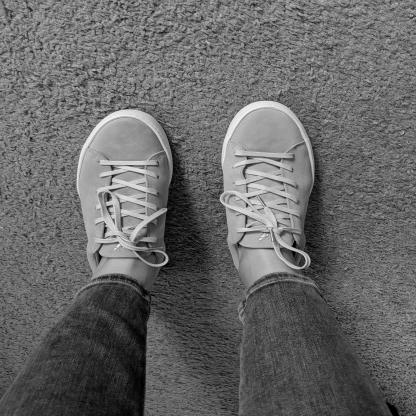ankle: (257, 240, 261, 244), (133, 253, 138, 256)
heel: (242, 275, 247, 279), (147, 283, 153, 286)
left_foot: (77, 110, 173, 295)
pinky: (91, 147, 101, 151), (295, 136, 301, 139)
right_foot: (222, 102, 316, 282)
toe: (238, 126, 242, 130), (152, 137, 156, 141)
